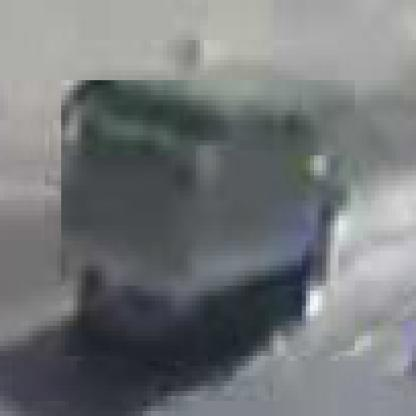truck: (58, 81, 356, 362)
